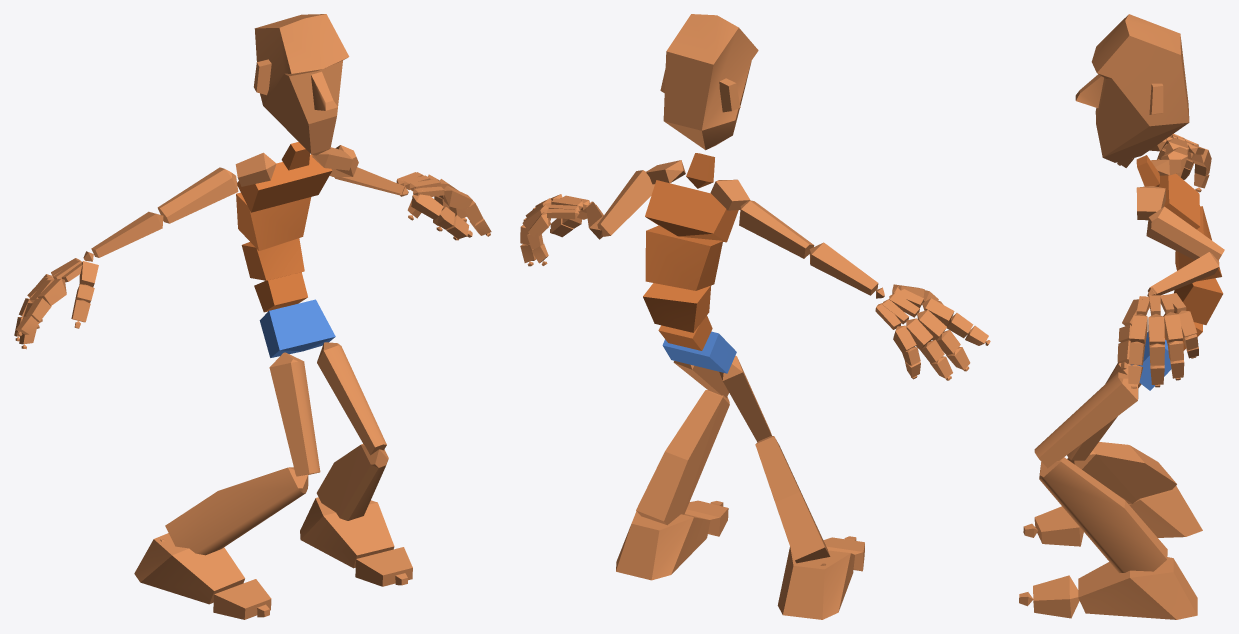
3 renders of one model, left to right at view 1: azimuth 30°, elevation 25°; view 2: azimuth 150°, elevation 25°; view 3: azimuth 270°, elevation 25°, orthographic. The views are drawn at different scales.
Parts seen in each view (by area): view 1: BOPED_Head, BOPED_R_leg, BOPED_R_foot, BOPED_R_foot01, BOPED_R_legup, BOPED_L_leg, Bone01, BOPED_L_legup, Bone04, Bone05, BOPED_R_arm_upper, Bone03 (+6 smaller); view 2: BOPED_Head, BOPED_L_leg, BOPED_R_foot01, BOPED_R_foot, Bone04, BOPED_R_leg, Bone05, Bone03, BOPED_R_arm_upper, BOPED_R_legup, BOPED_L_arm_upper, Bone01 (+8 smaller); view 3: BOPED_Head, BOPED_L_leg, BOPED_R_foot01, BOPED_R_leg, BOPED_L_legup, BOPED_R_foot, BOPED_L_arm_upper, BOPED_R_foot_toe04, BOPED_R_foot_toe01, Bone05, Bone03, BOPED_L_arm_fore (+14 smaller).
Part boxes in pixels (x1,y1,x2,y2): BOPED_Head: (253,14,349,155); BOPED_R_leg: (165,467,308,555); BOPED_R_foot: (134,533,244,604); BOPED_R_foot01: (300,497,394,568); BOPED_R_legup: (269,352,320,476); BOPED_L_leg: (316,444,388,520); Bone01: (259,299,335,357); BOPED_L_legup: (317,342,386,455); Bone04: (236,192,311,250); Bone05: (237,154,332,212); BOPED_R_arm_upper: (157,167,238,223); Bone03: (241,238,304,280); BOPED_Head: (660,14,758,150); BOPED_L_leg: (636,390,729,525); BOPED_R_foot01: (616,511,710,580); BOPED_R_foot: (777,547,854,619); Bone04: (645,225,722,290); BOPED_R_leg: (755,436,830,563); Bone05: (645,180,738,242); Bone03: (643,283,710,332); BOPED_R_arm_upper: (739,200,814,258); BOPED_R_legup: (719,355,771,441); BOPED_L_arm_upper: (597,170,654,236); Bone01: (662,331,736,373); BOPED_Head: (1075,14,1189,162); BOPED_L_leg: (1039,457,1167,573); BOPED_R_foot01: (1078,557,1197,619); BOPED_R_leg: (1067,442,1176,503); BOPED_L_legup: (1034,372,1138,468); BOPED_R_foot: (1129,486,1202,537); BOPED_L_arm_upper: (1146,206,1224,260); BOPED_R_foot_toe04: (1033,575,1079,618); BOPED_R_foot_toe01: (1034,506,1083,546); Bone05: (1159,173,1200,229); Bone03: (1174,278,1223,324); BOPED_L_arm_fore: (1148,252,1219,295).
Bounding box in the file's own units: 154 × 171 × 56.92.
